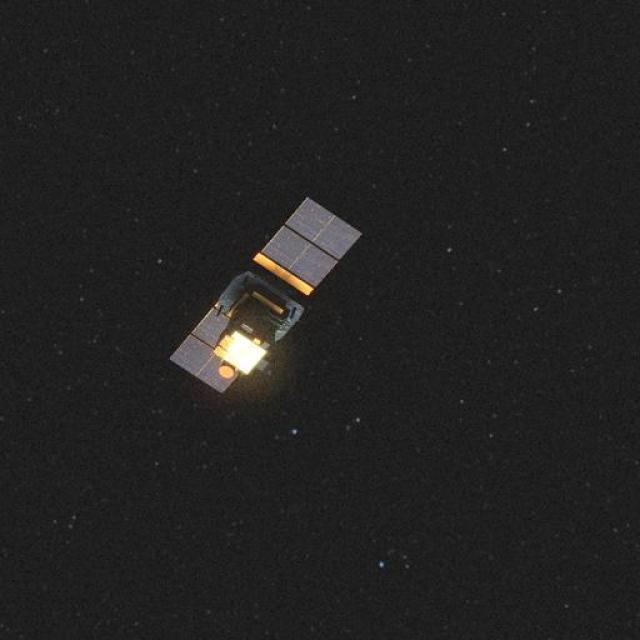soho: (151, 181, 379, 418)
